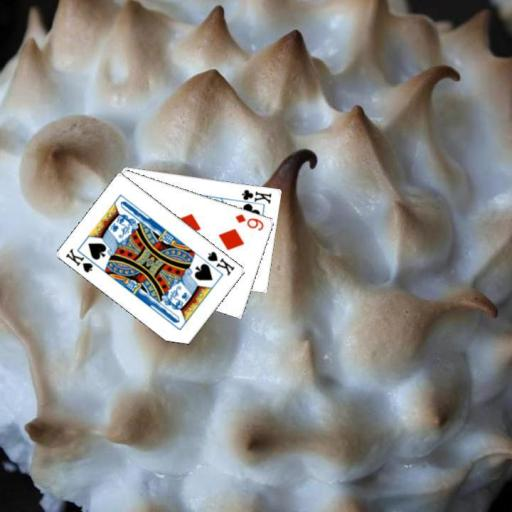6D: (233, 210, 265, 232)
KC: (235, 186, 273, 207)
KS: (63, 245, 100, 274), (204, 248, 236, 277)
